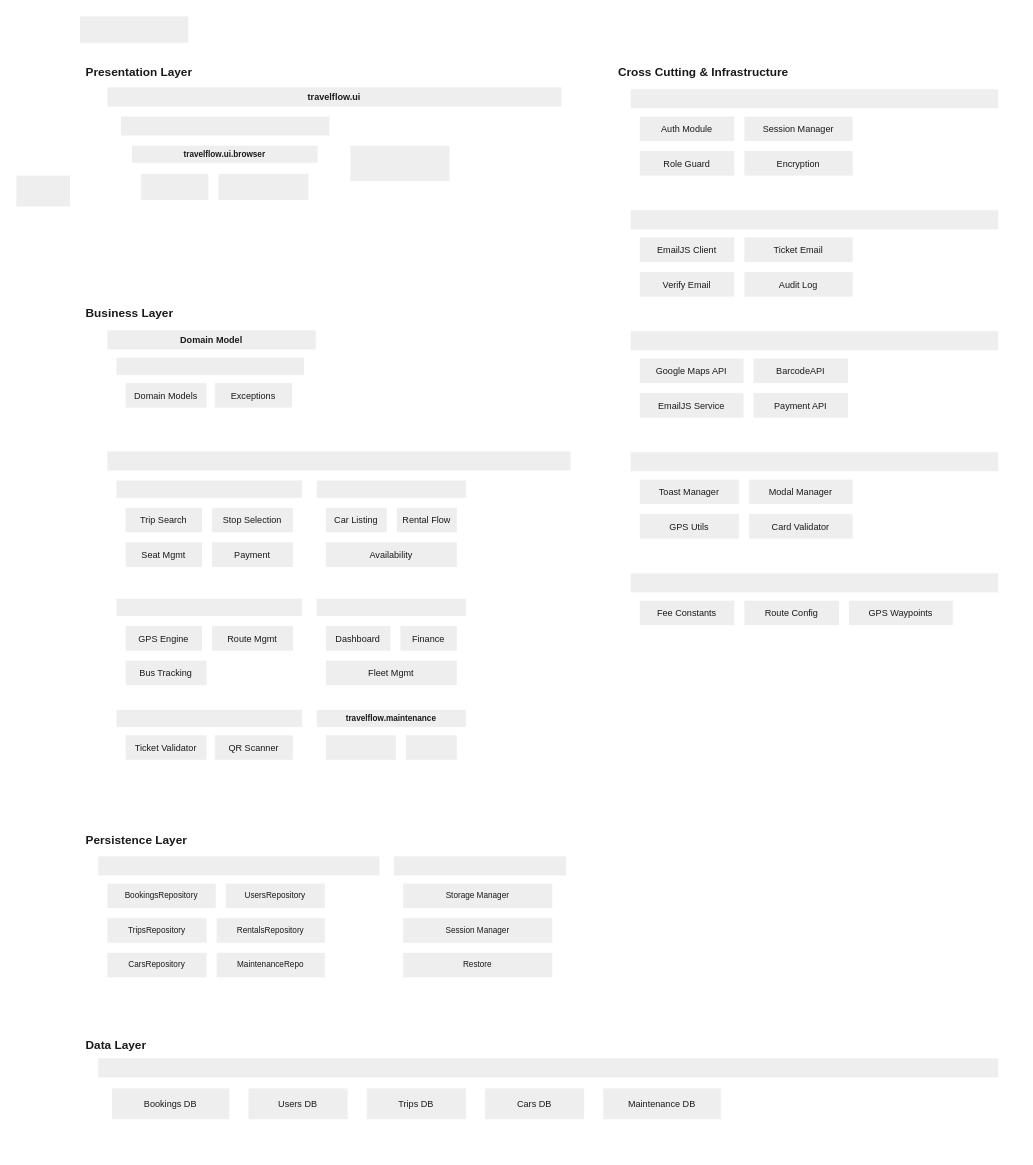
Image size: 1033x1165. Some labels were removed from this diagram. Here are the shapes that lost their labels. From the top down, the box of each, then its label:
(79, 15, 189, 43): travelflow
(629, 88, 999, 196): travelflow.auth
(120, 115, 330, 251): User Interface
(349, 144, 450, 182): Driver Panel
(15, 174, 71, 207): Users
(140, 172, 209, 201): Web
(217, 172, 309, 201): Admin Dashboard
(629, 209, 999, 317): travelflow.notifications
(115, 356, 304, 425): travelflow.common
(629, 330, 999, 438): travelflow.integration
(629, 451, 999, 559): travelflow.utils
(115, 479, 303, 585): travelflow.booking
(315, 479, 466, 585): travelflow.rental
(106, 450, 571, 783): Application
(629, 572, 999, 646): travelflow.config
(115, 597, 303, 697): travelflow.tracking
(315, 597, 466, 697): travelflow.admin
(115, 708, 303, 771): travelflow.driver
(324, 734, 396, 760): Service Tracker
(404, 734, 457, 760): Health Monitor
(97, 855, 380, 1000): travelflow.persistence.dataAccess
(393, 855, 566, 1000): travelflow.persistence.localStorage
(97, 1057, 999, 1135): travelflow.dataServices
